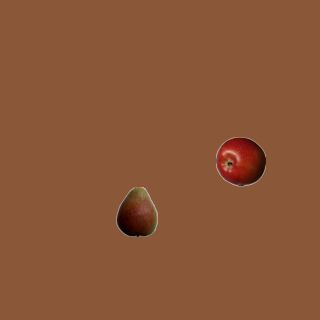Apple Braeburn: (215, 136, 265, 186)
Pear Forelle: (111, 186, 161, 236)
